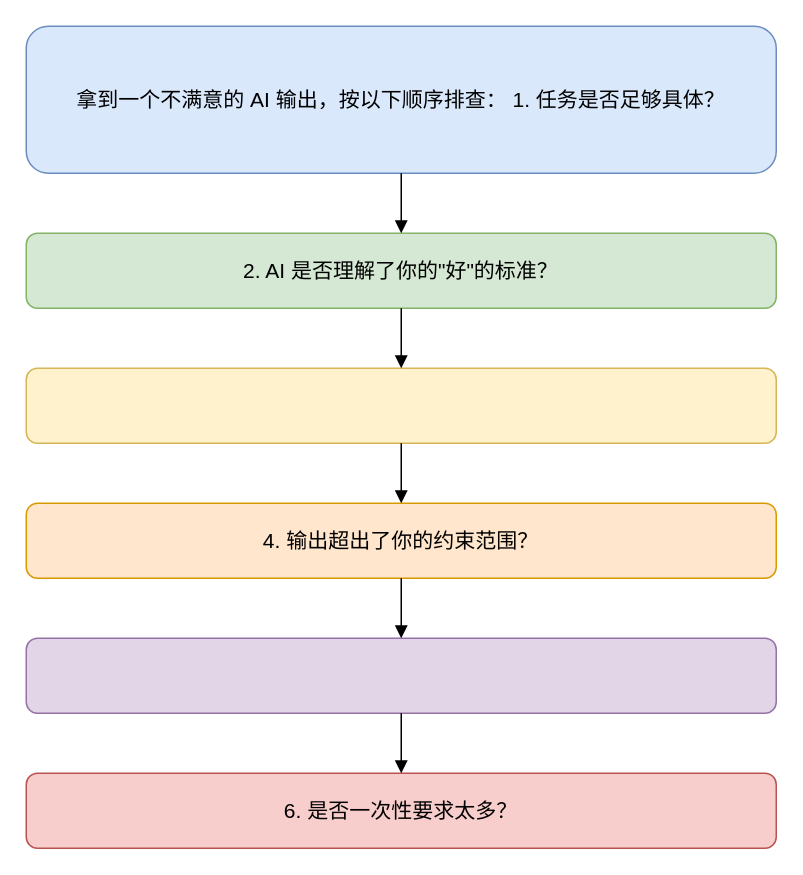
Some shapes in this 803 by 875 pixel diagram are drawn without their labels. The centre of each missing label's shape, as x and y in pixels:
3. 输出质量不达标是因为 AI 缺乏专业深度？: point (400, 405)
5. 提醒还是不对？: point (400, 675)
